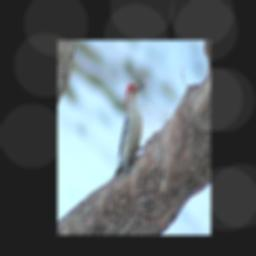Woodpecker: (113, 81, 146, 178)
